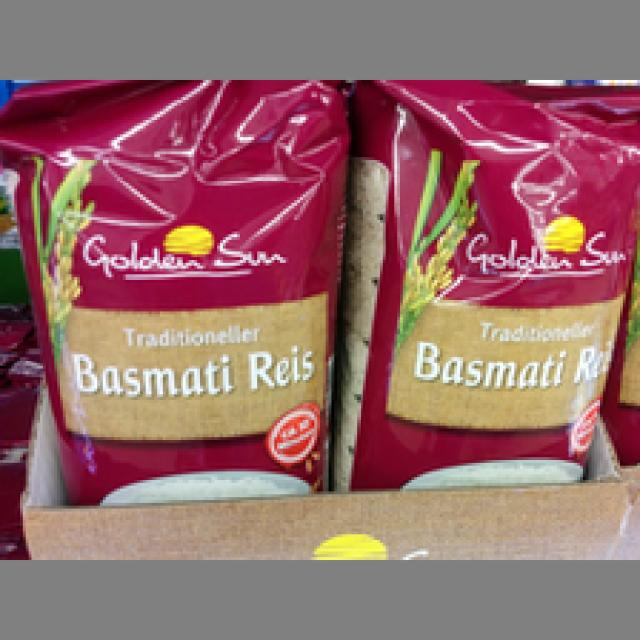groceries: (0, 77, 349, 503), (326, 77, 637, 489)
